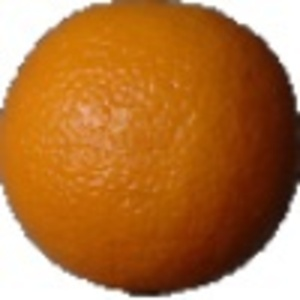laranja: (2, 2, 296, 294)
